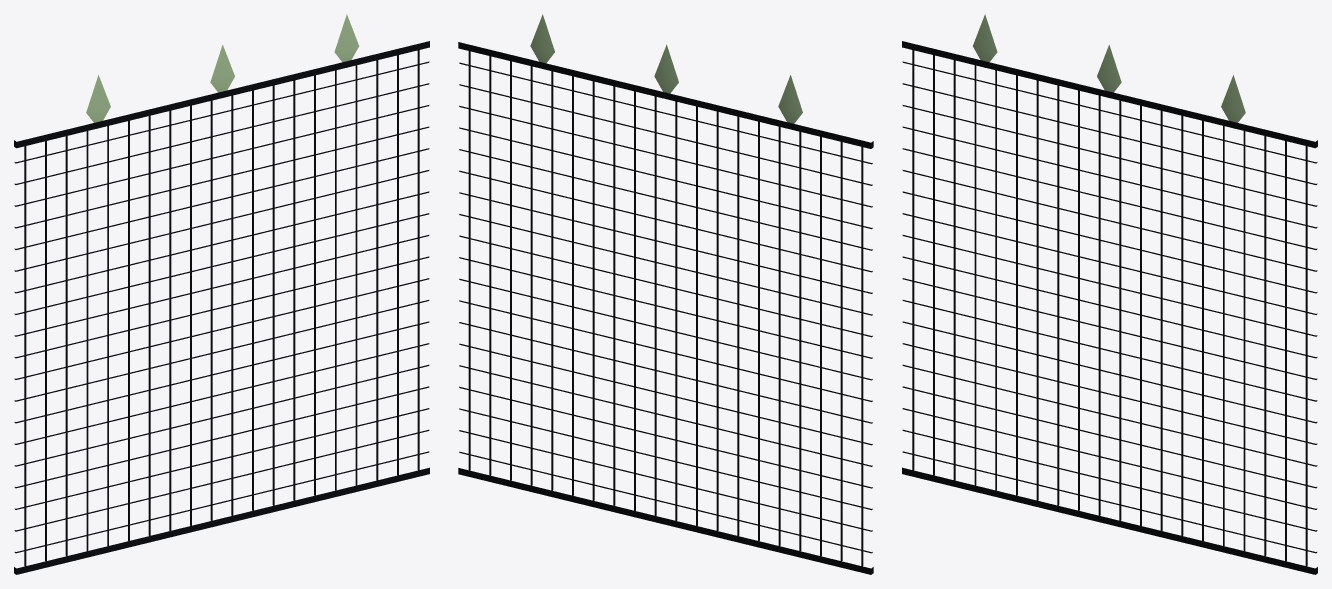
File: v5_net.glb
The picture shows the model from 3 angles, left to right: view 1: azimuth 30°, elevation 25°; view 2: azimuth 150°, elevation 25°; view 3: azimuth 330°, elevation 25°; orthographic projection.
Visible parts, largest first — view 1: Ball_Net_Cord, Net_Leaf_Tags; view 2: Ball_Net_Cord, Net_Leaf_Tags; view 3: Ball_Net_Cord, Net_Leaf_Tags.
Boxes of the visible parts, x1,y1,x2,y2 form: Ball_Net_Cord: (14,41,429,574); Net_Leaf_Tags: (86,14,358,122); Ball_Net_Cord: (458,42,873,574); Net_Leaf_Tags: (530,14,802,123); Ball_Net_Cord: (902,41,1317,574); Net_Leaf_Tags: (973,14,1245,122).
Bounding box in the file's own units: 2 × 2.22 × 0.024.
2 materials, 1 textured.
